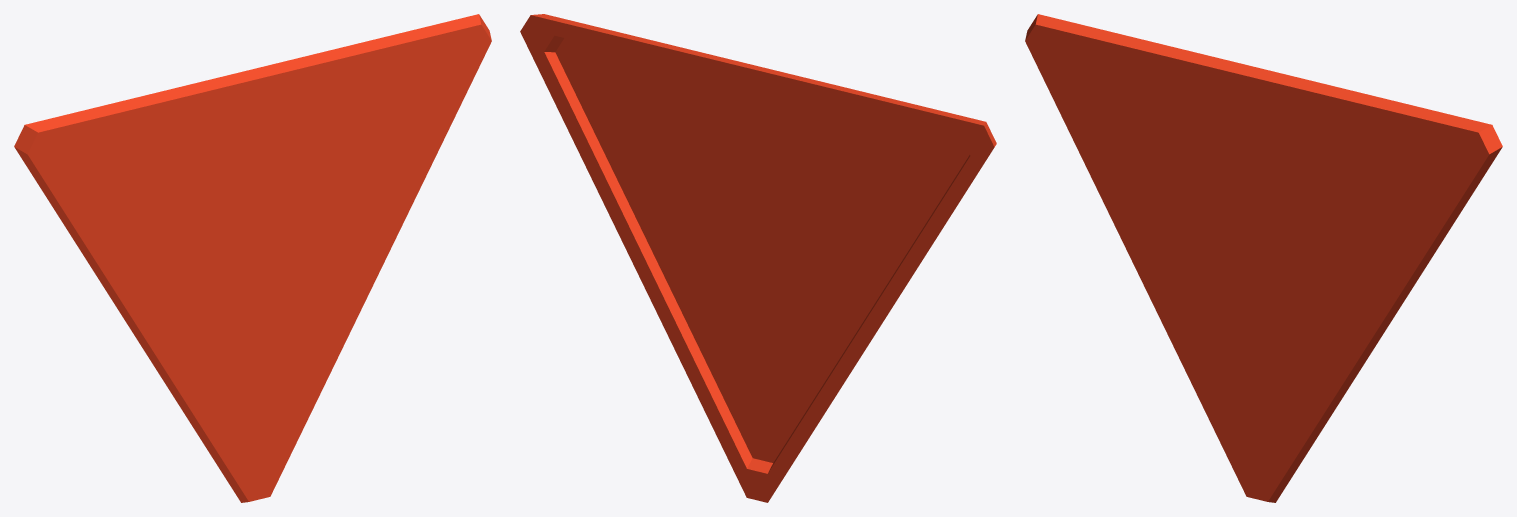
File: SM_Sign_Yield_A_City.fbx
3 views of the same model, side by side, from view 1: azimuth 30°, elevation 25°; view 2: azimuth 150°, elevation 25°; view 3: azimuth 330°, elevation 25° (orthographic).
Visible parts, largest first — view 1: SM_Sign_Yield_A_City; view 2: SM_Sign_Yield_A_City; view 3: SM_Sign_Yield_A_City.
Boxes of the visible parts, left/top/right/bottom form: SM_Sign_Yield_A_City: left=14, top=14, right=491, bottom=502; SM_Sign_Yield_A_City: left=520, top=14, right=996, bottom=502; SM_Sign_Yield_A_City: left=1025, top=14, right=1502, bottom=502.
Size of the model in its own units: 0.7868 by 0.6814 by 0.0228.
